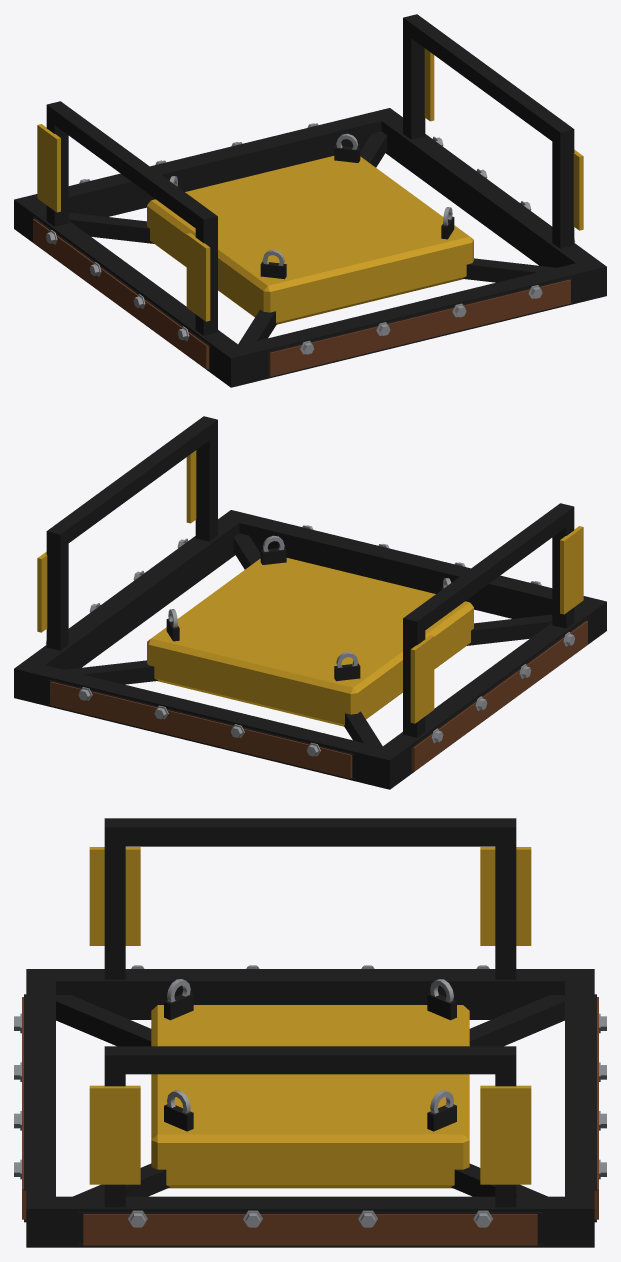
3 renders of one model, top to bottom at view 1: azimuth 30°, elevation 25°; view 2: azimuth 150°, elevation 25°; view 3: azimuth 270°, elevation 25°, orthographic. The views are drawn at different scales.
Visible parts, largest first — view 1: dr5_base; view 2: dr5_base; view 3: dr5_base.
Boxes of the visible parts, x1,y1,x2,y2 form: dr5_base: (14,14,606,387); dr5_base: (14,416,606,789); dr5_base: (14,818,606,1247).
Size of the model in its own units: 2.79 by 0.991 by 2.79.
